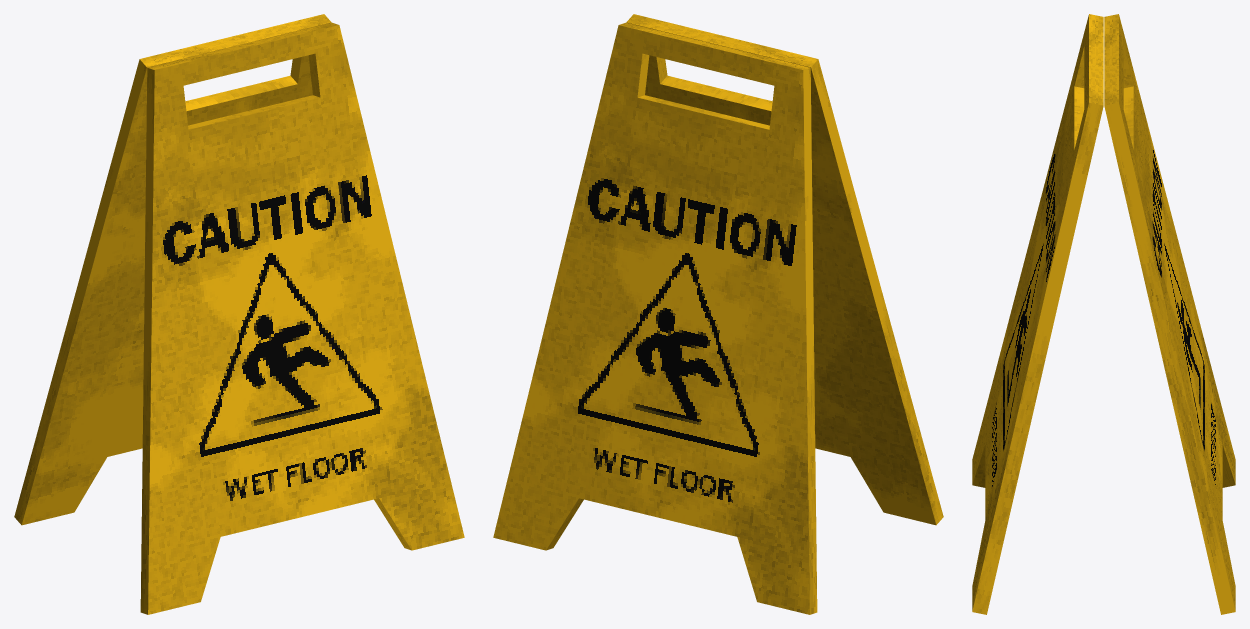
3 views of the same model, side by side, from view 1: azimuth 30°, elevation 25°; view 2: azimuth 150°, elevation 25°; view 3: azimuth 270°, elevation 25° (orthographic).
Parts seen in each view (by area): view 1: side1, side2; view 2: side2, side1; view 3: side1, side2.
Part boxes in pixels (x1,y1,x2,y2): side1: (140,22,464,614); side2: (14,14,331,525); side2: (493,22,817,614); side1: (626,14,943,525); side1: (972,14,1103,614); side2: (1104,14,1235,614).
Bounding box in the file's own units: 0.75 × 1.11 × 0.5492.
Materials: 1 (1 with a texture image).
